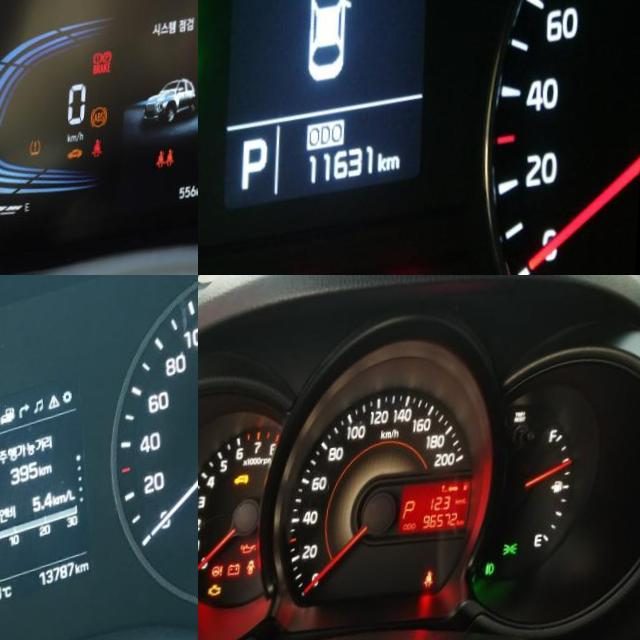Doors: (249, 565, 258, 582)
FrontFogLight: (487, 577, 497, 591)
SideLamp: (505, 556, 521, 573)
